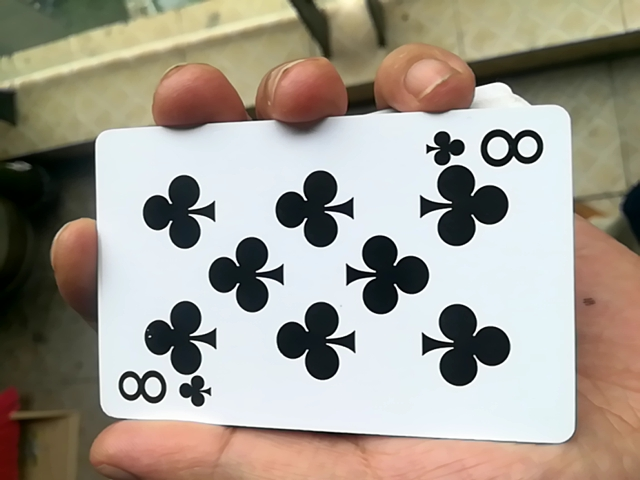mh 8: (88, 113, 568, 453)
